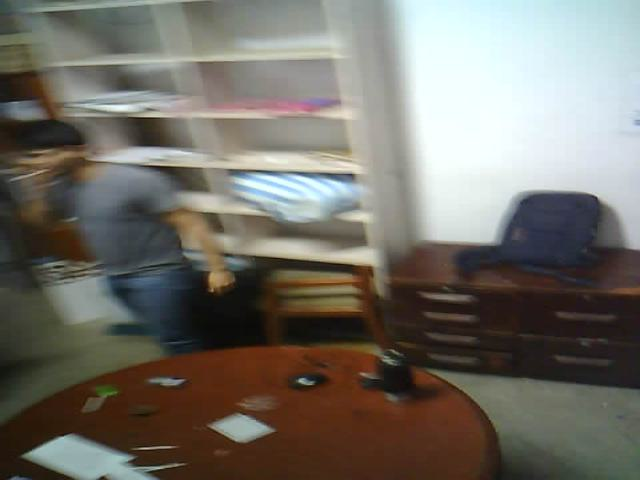person: (5, 103, 264, 381)
